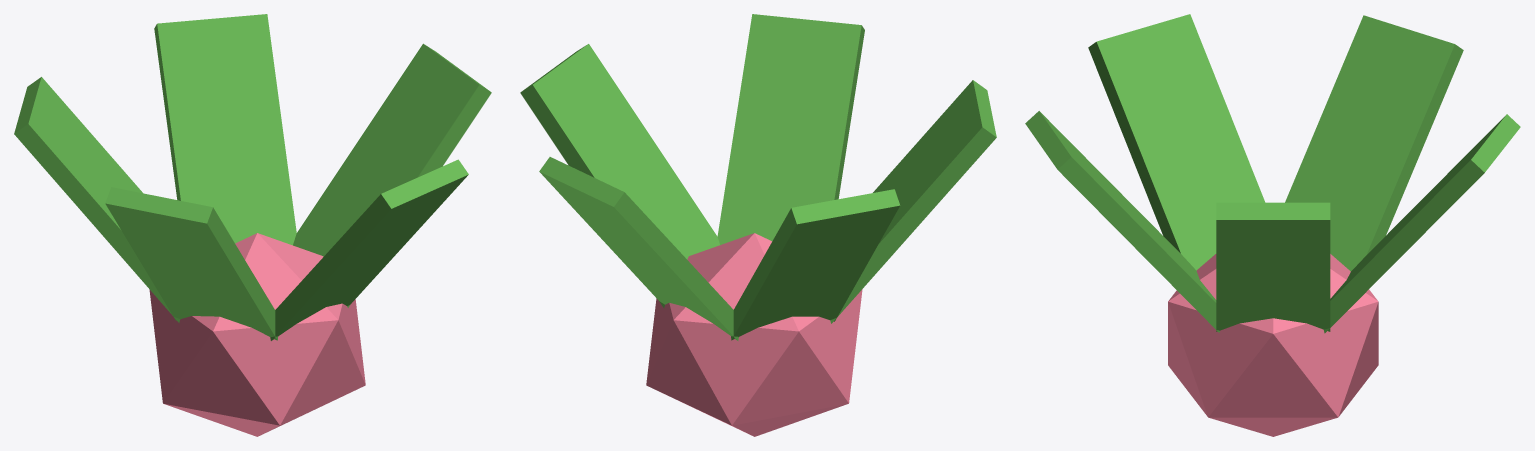
The model's file is crop_3.glb.
The picture shows the model from 3 angles, left to right: view 1: azimuth 30°, elevation 25°; view 2: azimuth 150°, elevation 25°; view 3: azimuth 270°, elevation 25°; orthographic projection.
Parts seen in each view (by area): view 1: Crop; view 2: Crop; view 3: Crop.
Part boxes in pixels (<box>): Crop: <box>14,14,491,436</box>; Crop: <box>520,14,996,436</box>; Crop: <box>1025,14,1520,436</box>.
Bounding box in the file's own units: 0.4969 × 0.3829 × 0.5208.
